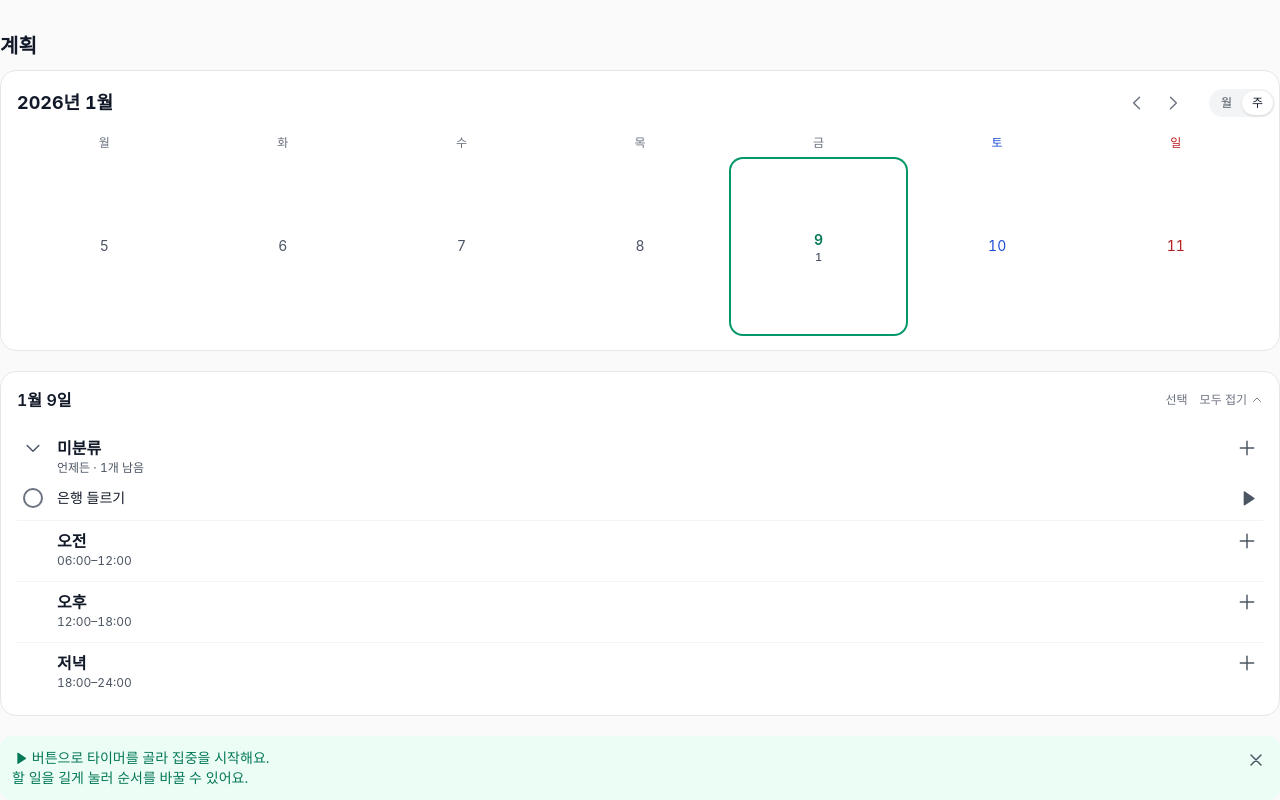
Test: TodosPage delete undo › names the todo in the complete and uncomplete undo toasts
(page scrolled)
Click the button named "은행 들르기 완료". click: (33,498)
box: [23, 488, 43, 508]
Wait 100 ms
(page scrolled)
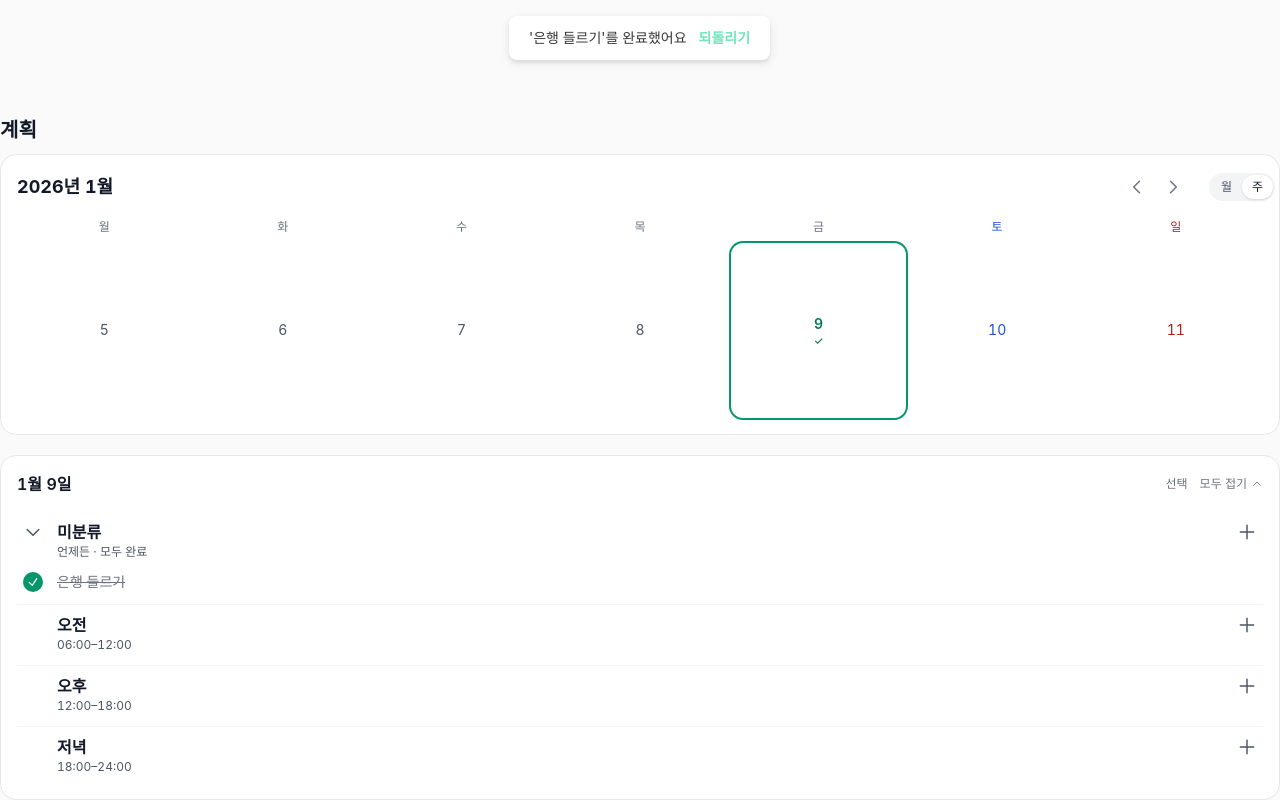
Now the text "'은행 들르기'를 완료했어요" is shown, box [529, 28, 687, 48]
Click the button named "은행 들르기 완료 취소". click: (33,582)
box: [23, 572, 43, 592]
Wait 100 ms
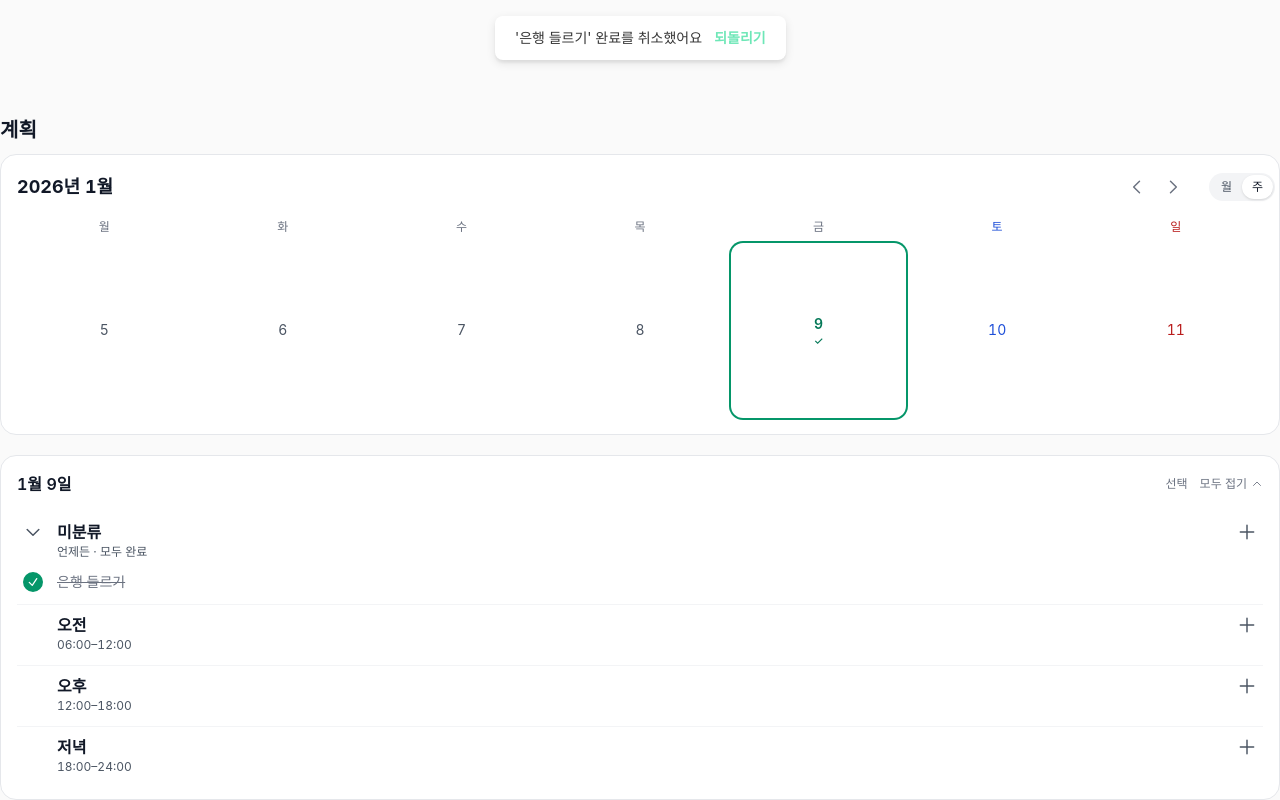
Now the text "'은행 들르기' 완료를 취소했어요" is shown, box [515, 28, 702, 48]
